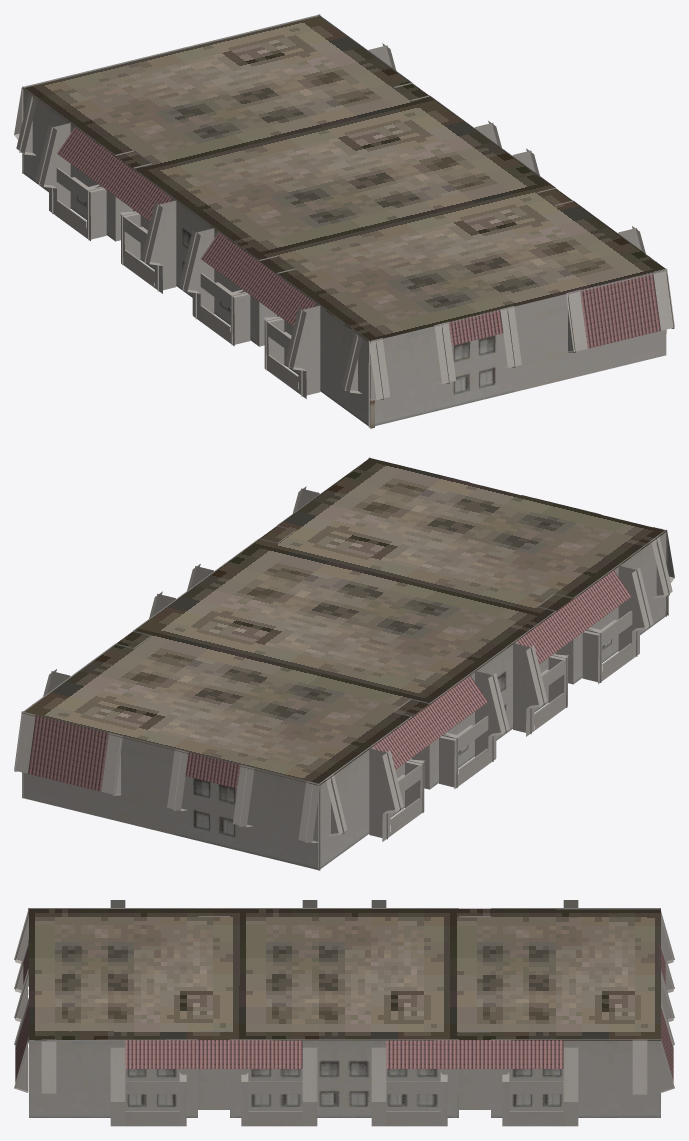
Rendered from lodhseblk03.obj.
3 renders of one model, top to bottom at view 1: azimuth 30°, elevation 25°; view 2: azimuth 150°, elevation 25°; view 3: azimuth 270°, elevation 25°, orthographic. The views are drawn at different scales.
Parts seen in each view (by area): view 1: lodhseblk03; view 2: lodhseblk03; view 3: lodhseblk03.
Part boxes in pixels (<box>): lodhseblk03: <box>14,14,674,428</box>; lodhseblk03: <box>14,457,674,870</box>; lodhseblk03: <box>14,900,674,1126</box>.
Bounding box in the file's own units: 27 × 6.17 × 46.91.
Materials: 5 (5 with a texture image).
